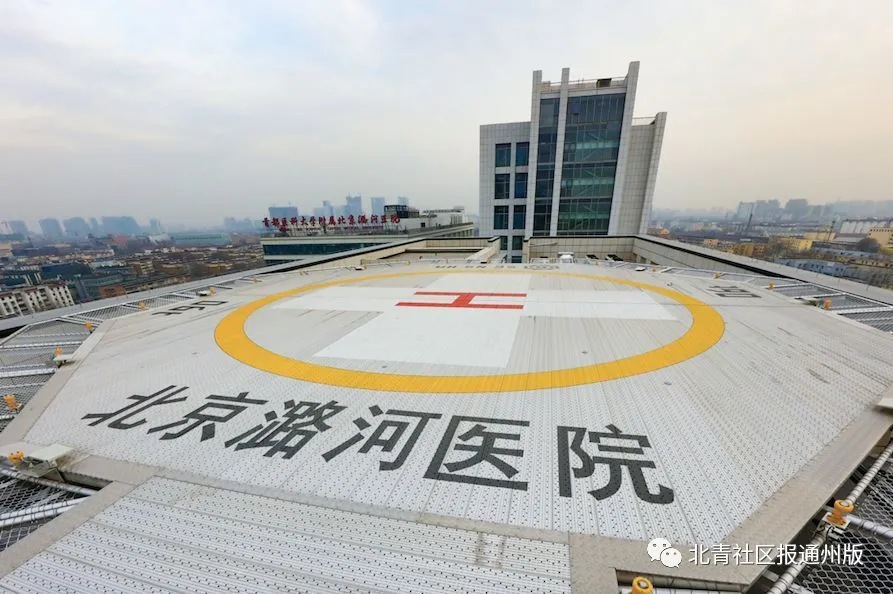Apron: (213, 266, 726, 395)
